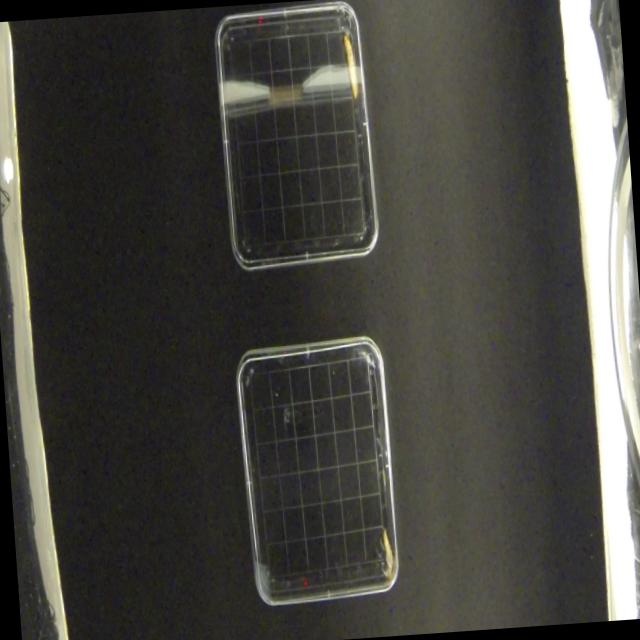larva: (341, 32, 359, 100), (378, 526, 394, 584)
